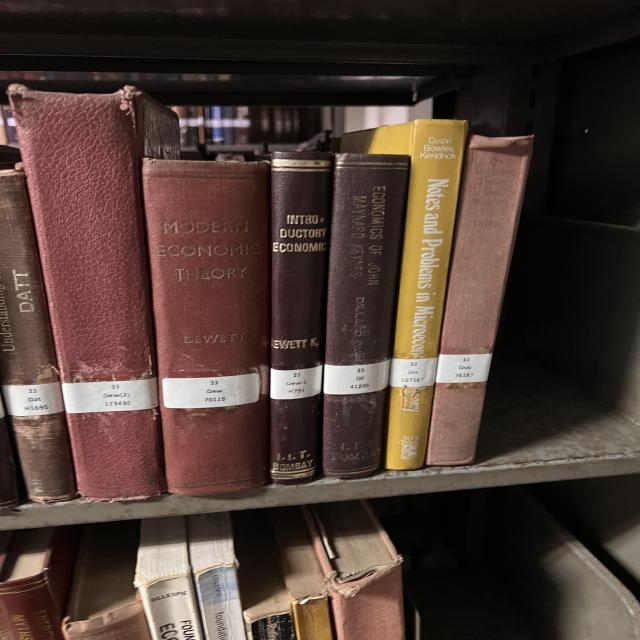Book: (8, 84, 180, 501), (342, 119, 467, 470), (142, 160, 270, 495), (427, 135, 533, 465), (323, 154, 410, 478), (0, 165, 77, 501), (270, 152, 332, 484)
Label: (162, 372, 260, 409), (62, 378, 158, 414), (323, 360, 390, 395), (2, 381, 63, 416), (270, 365, 323, 400), (435, 354, 492, 382), (390, 358, 437, 388)
